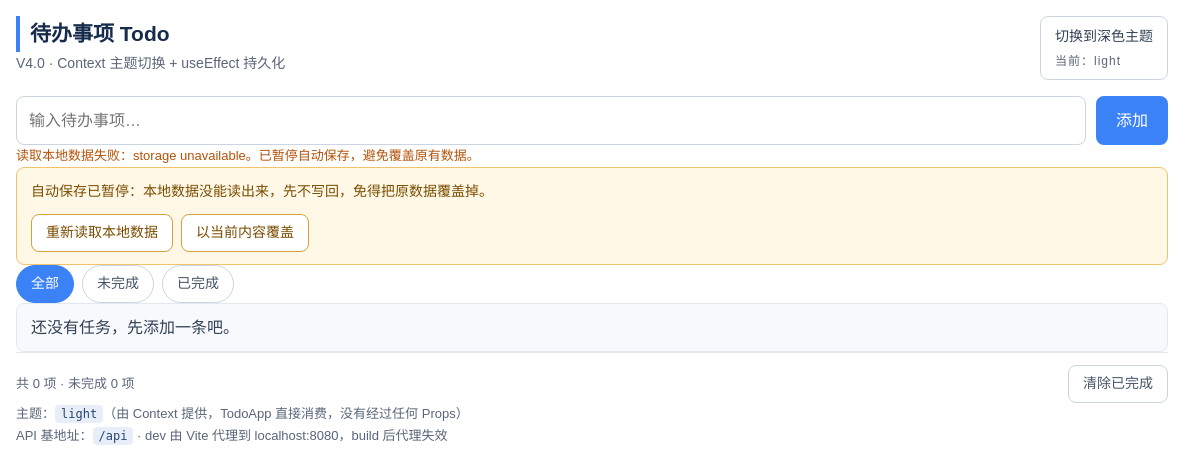
持久化5：读取抛错时提示并暂停自动保存，新增任务不会写回存储
Expected: the text "读取本地数据失败：storage unavailable。已暂停自动保存，避免覆盖原有数据。" is shown, [16,148,480,163]
Expected: the message "自动保存已暂停：本地数据没能读出来，先不写回，免得把原数据覆盖掉。 重新读取本地数据 以当前内容覆盖" is shown, [16,168,1168,265]
Type "任务A" into the field named "待办事项内容".
click(551, 121); type("任务A")  # box [16,96,1086,145]
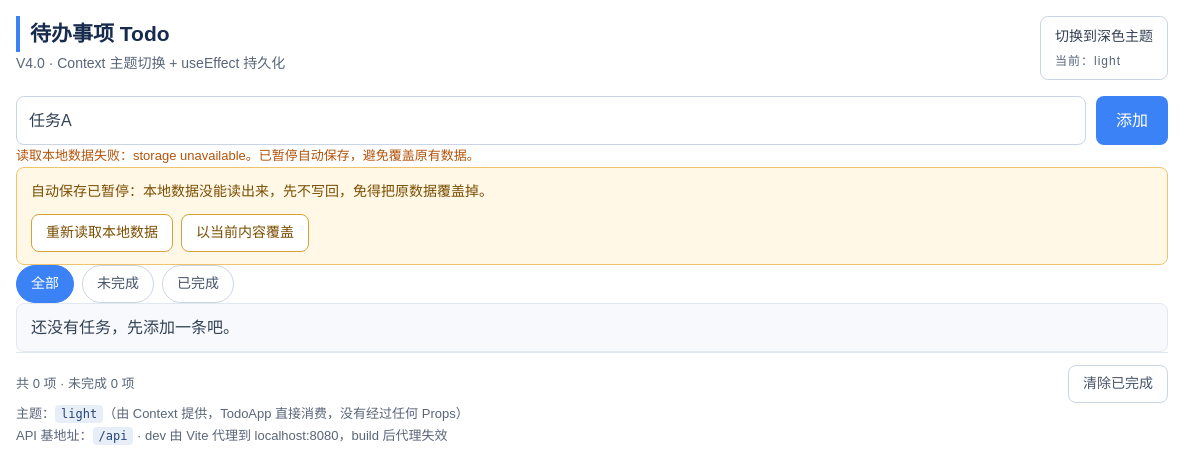
Click the button "添加".
click(1132, 121)  # box [1096,96,1168,145]
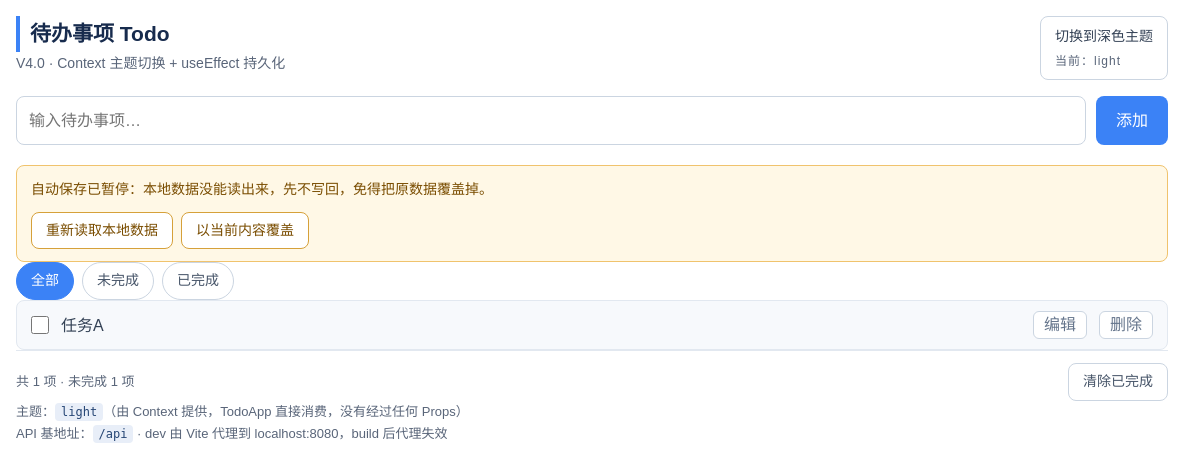
Expected: the text "任务A" is shown, [61,317,104,334]
